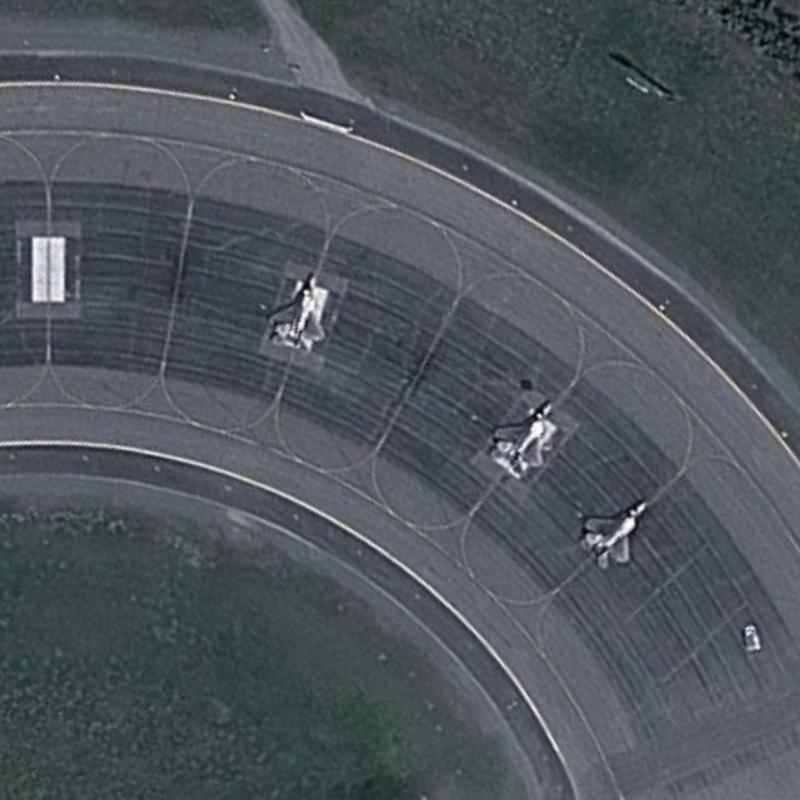A15: (262, 261, 338, 357), (566, 492, 655, 572), (484, 395, 561, 483)
